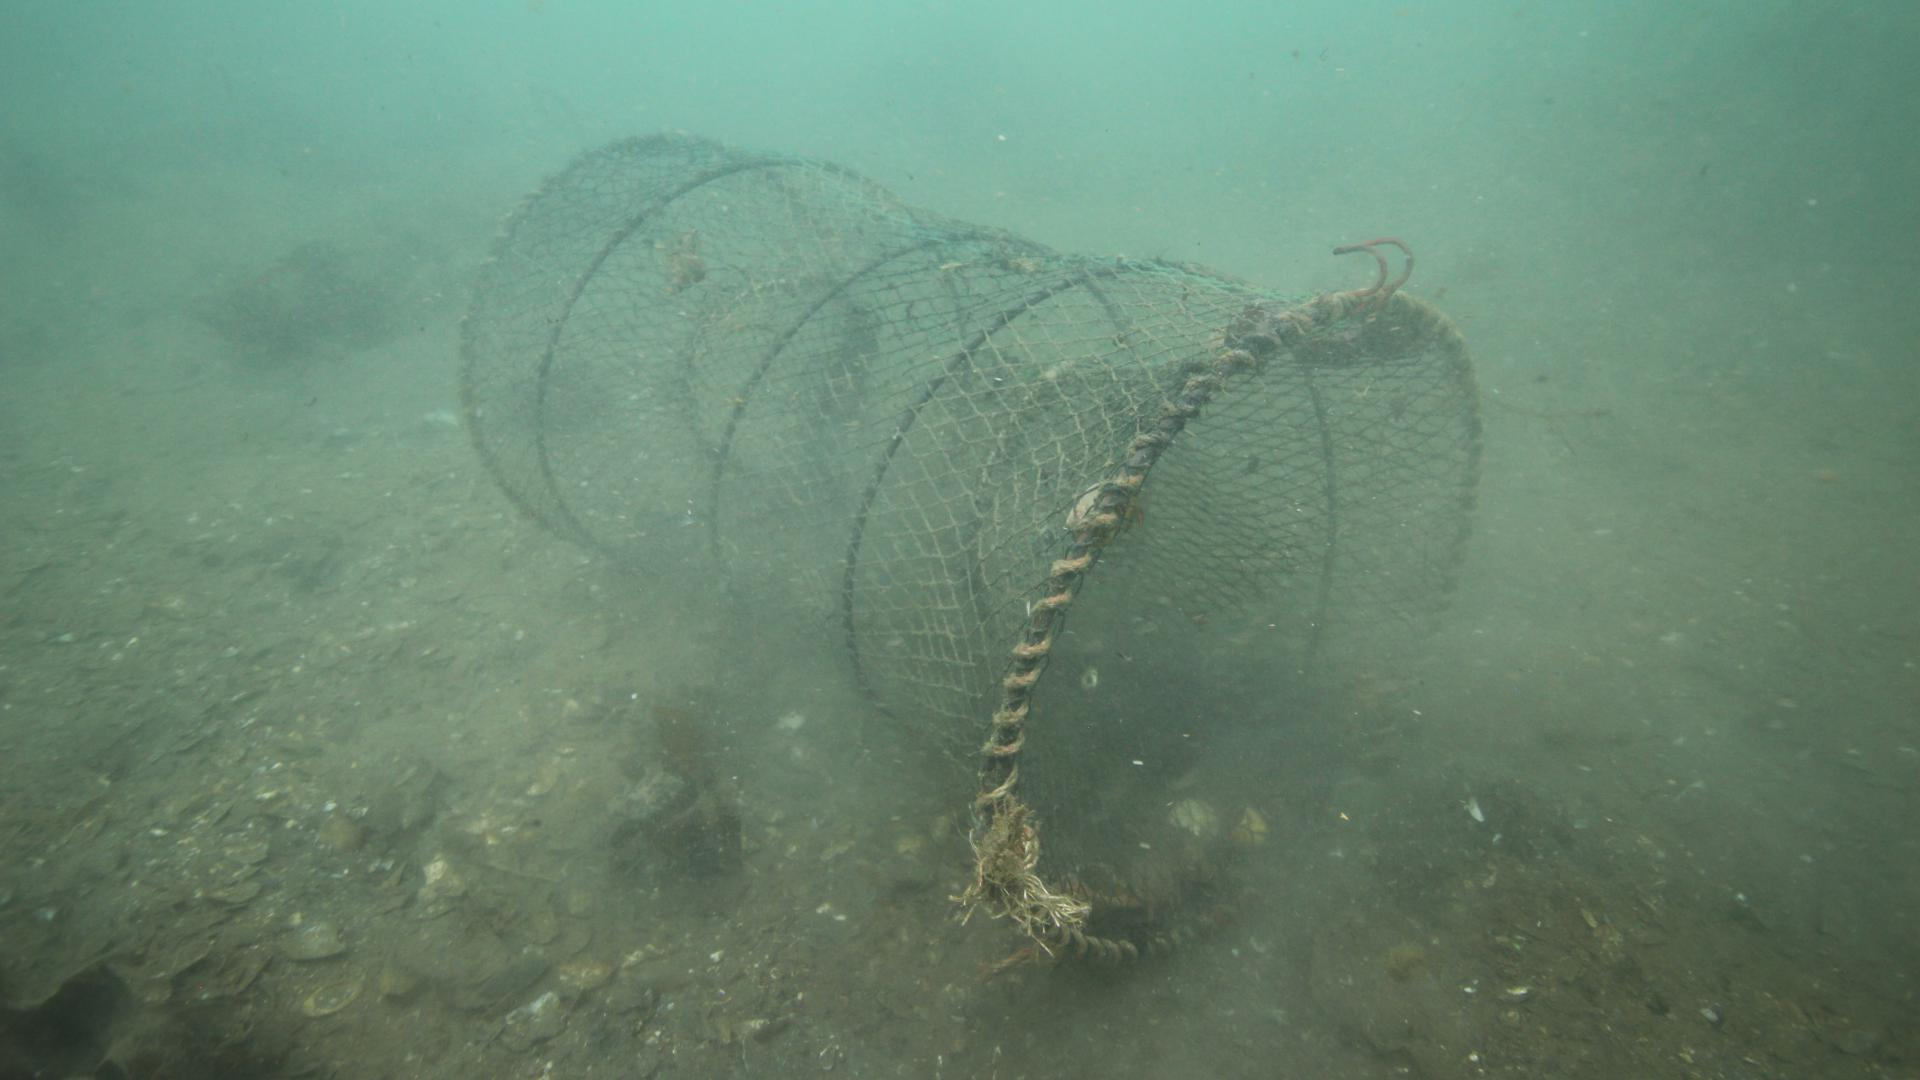spring fish trap: (458, 132, 1481, 965)
